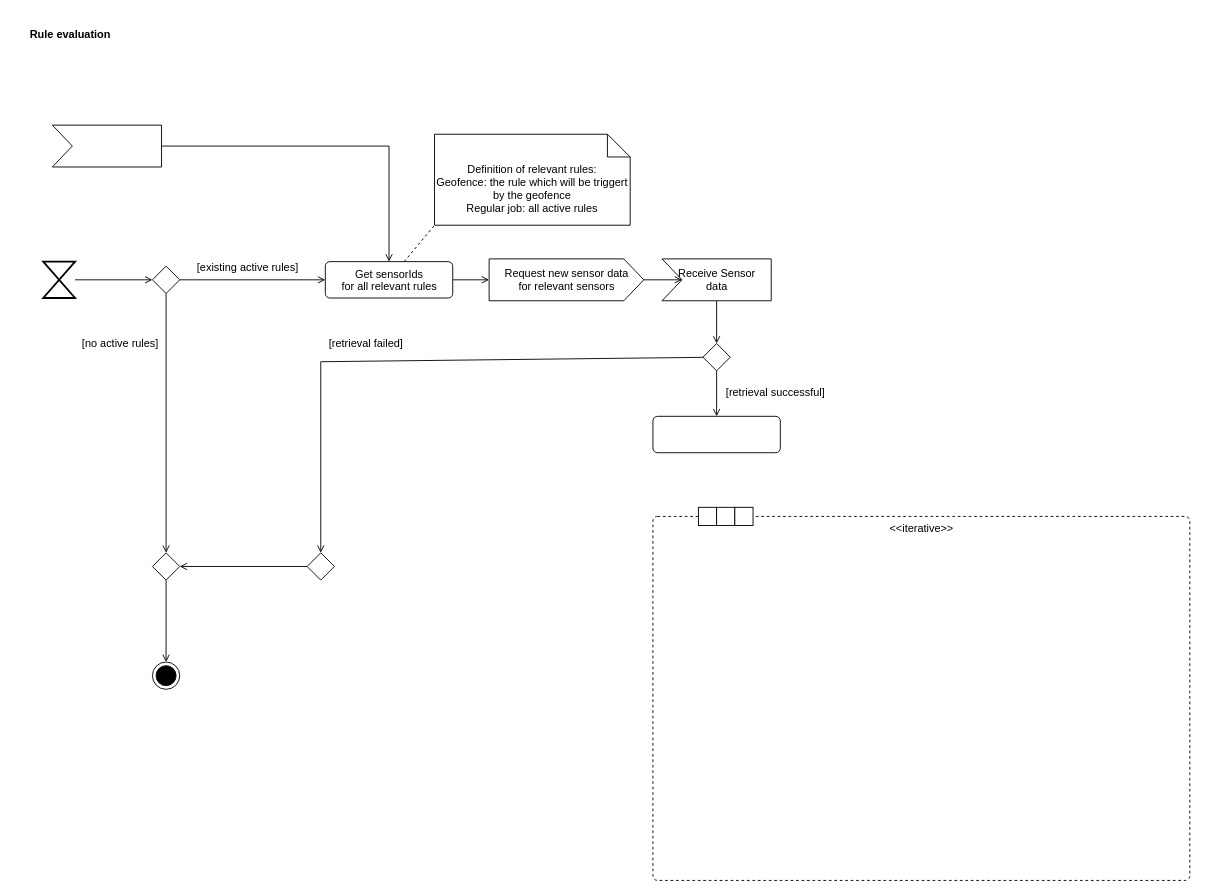
The diagram is 1206 pixels wide and 896 high, and some of its shapes have lost their labels. Here are the shapes that lost their labels. From the top down, the centre of each, then its label:
the point at 106,145: Geofence triggert
the point at 716,434: Chache the sensor data
